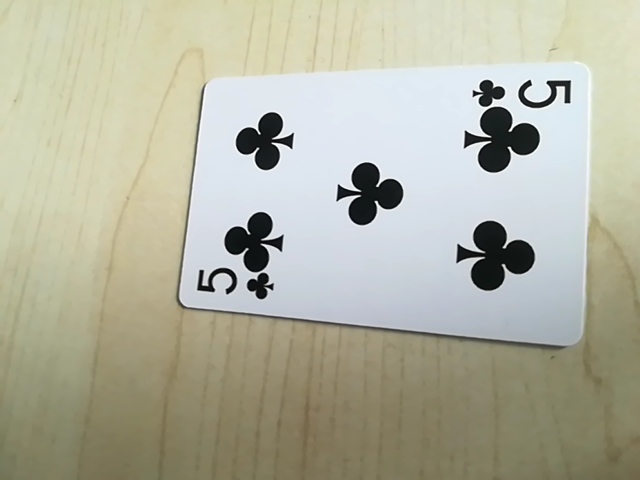mh 5: (469, 71, 573, 111), (192, 264, 279, 302)
